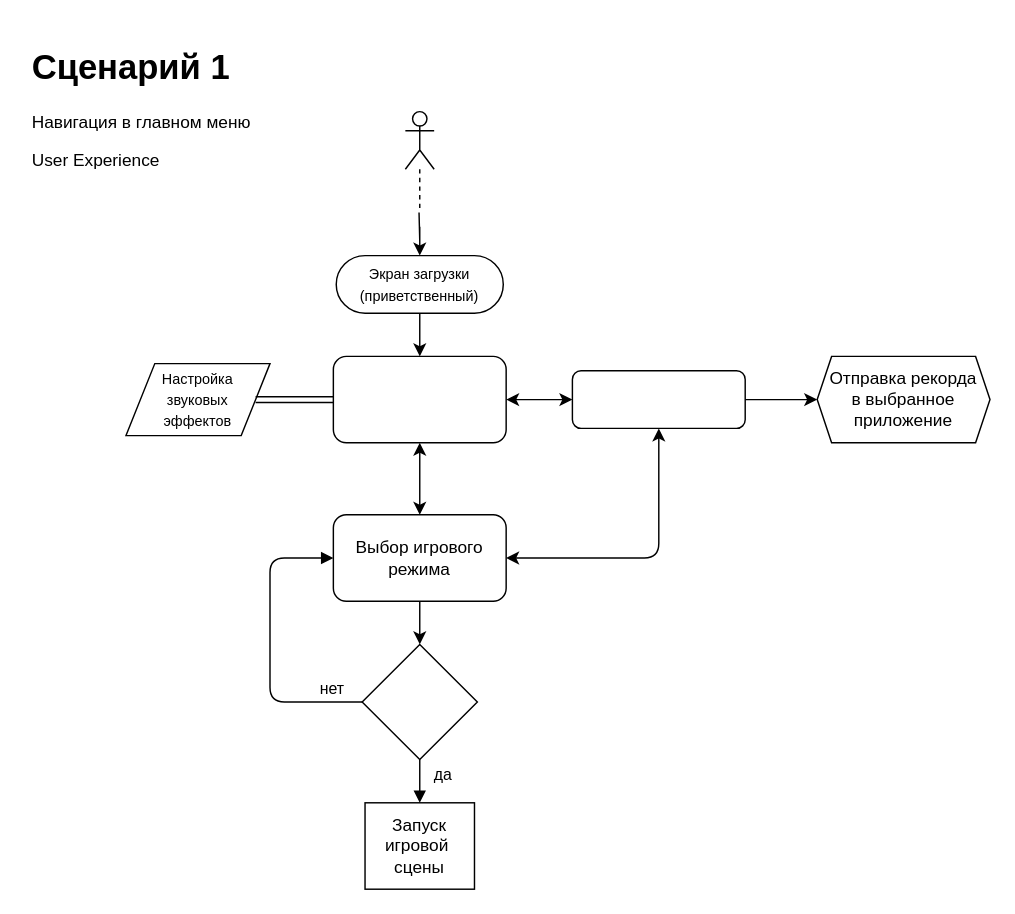
The diagram is 1015 pixels wide and 914 high, and some of its shapes have lost their labels. Here are the shapes that lost their labels. From the top down, the box of each, then its label:
(332, 355, 506, 443): Главное меню
(571, 369, 745, 428): Работа с рекордом
(361, 643, 477, 760): Уровень доступен?
